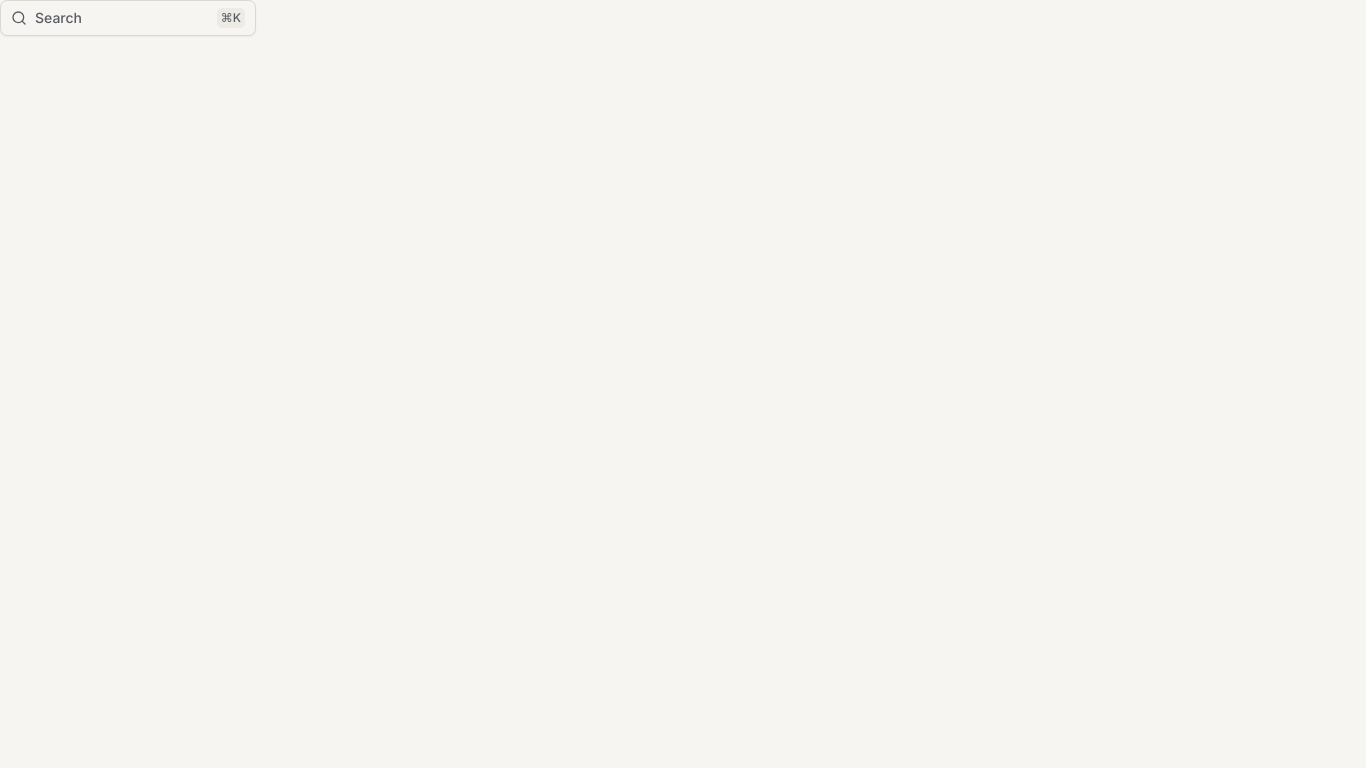
Test: CommandMenu › record search (PRD §7.6, HU-26) › CA1: "garcia" finds "García" (ignores accents)
Press k
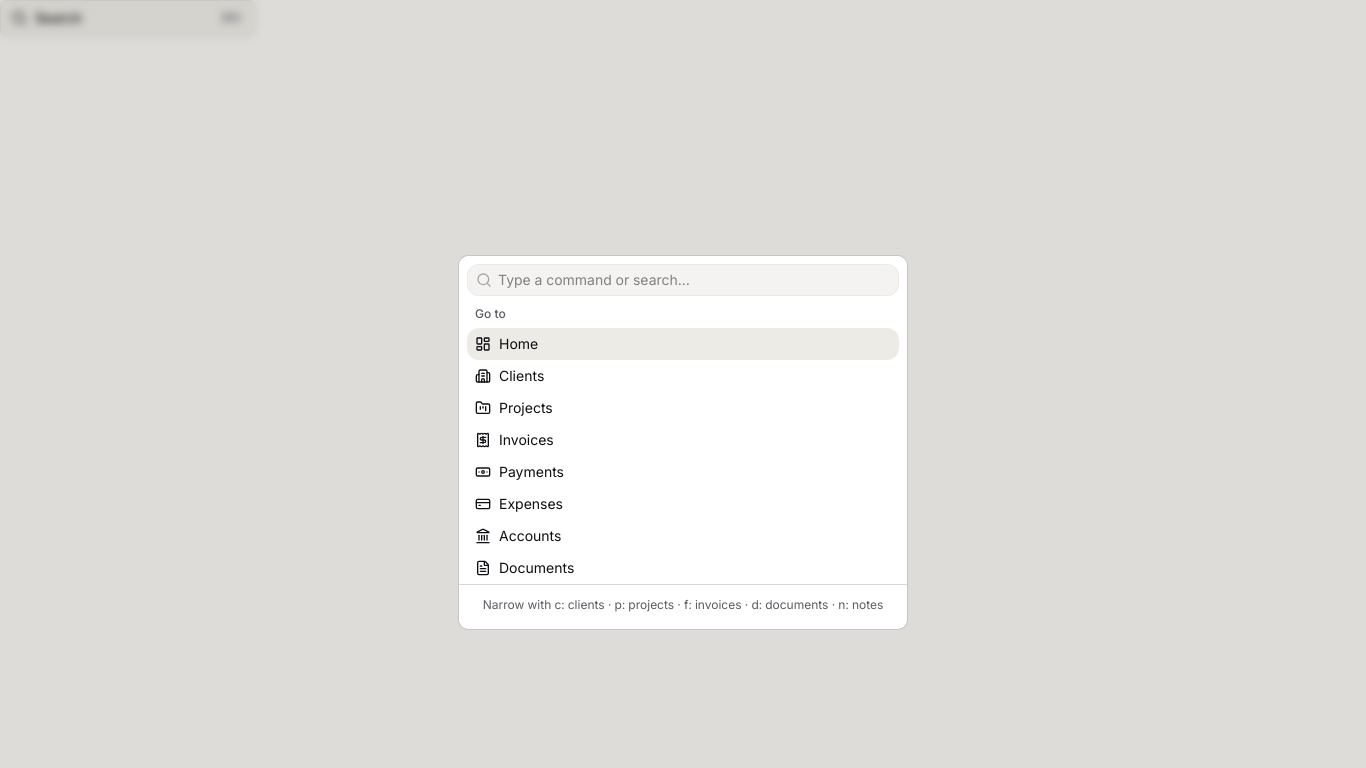
In the dropdown: x=695, y=280 top-left (492, 270), bottom-right (898, 290), type "garcia"
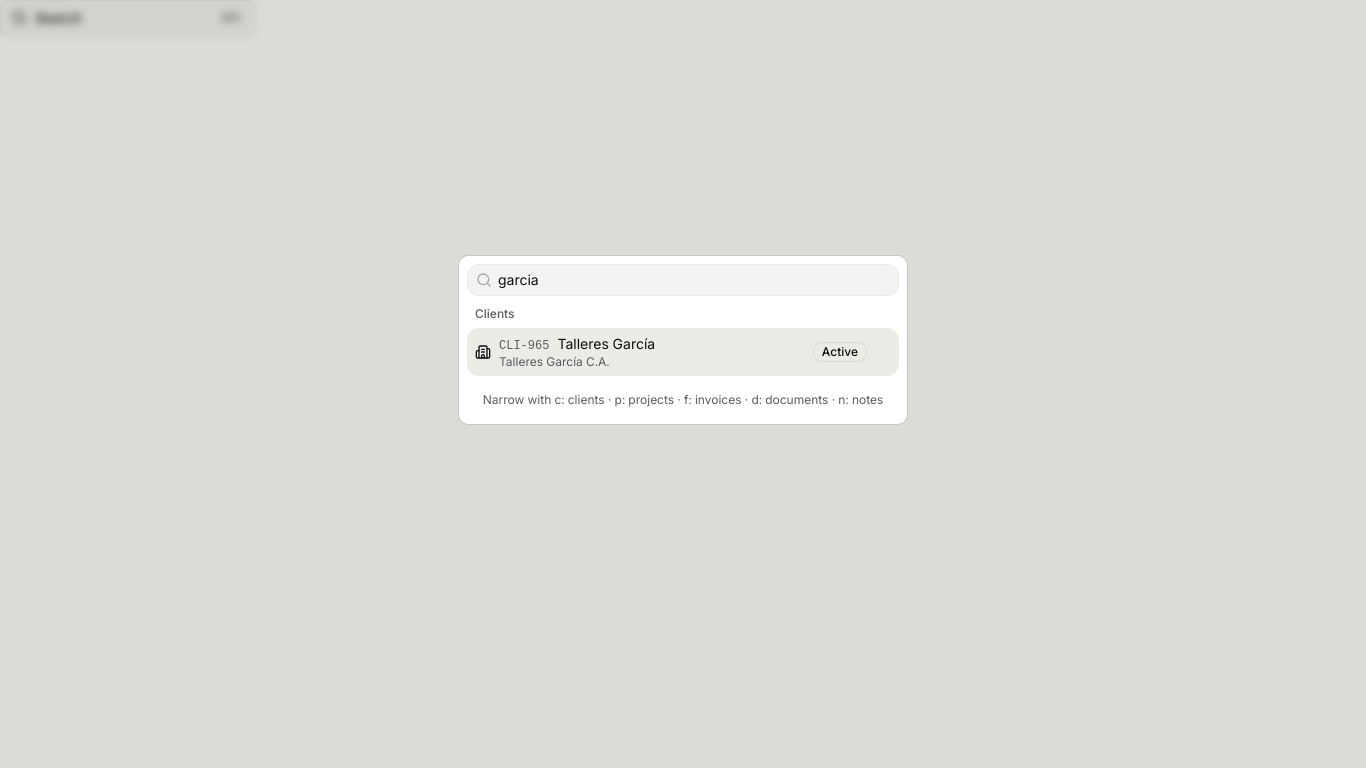
Now the option "CLI-965 Talleres García Talleres García C.A. Active" is shown, box top-left (467, 328), bottom-right (899, 376)
